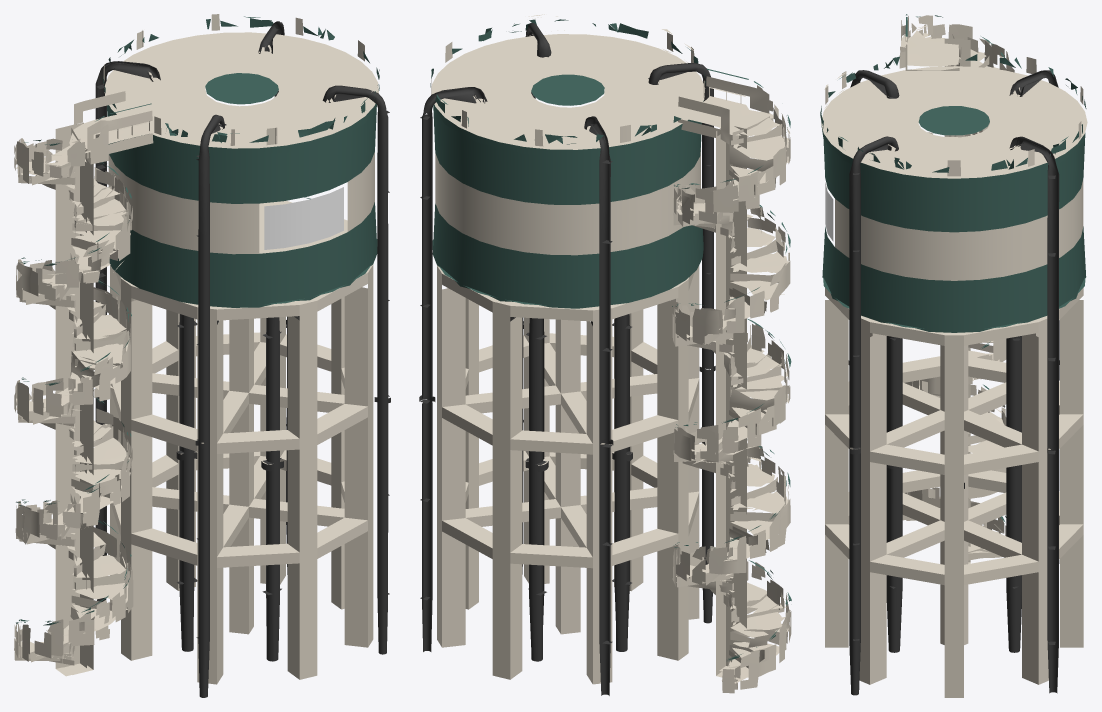
Rendered from water_tower.glb.
The picture shows the model from 3 angles, left to right: view 1: azimuth 30°, elevation 25°; view 2: azimuth 150°, elevation 25°; view 3: azimuth 270°, elevation 25°; orthographic projection. The views are drawn at different scales.
Parts seen in each view (by area): view 1: water_tower; view 2: water_tower; view 3: water_tower.
Part boxes in pixels (<box>): water_tower: <box>14,14,390,697</box>; water_tower: <box>419,14,791,695</box>; water_tower: <box>820,14,1087,697</box>.
Size of the model in its own units: 10.93 by 18 by 7.77.
Materials: 1 (1 with a texture image).
